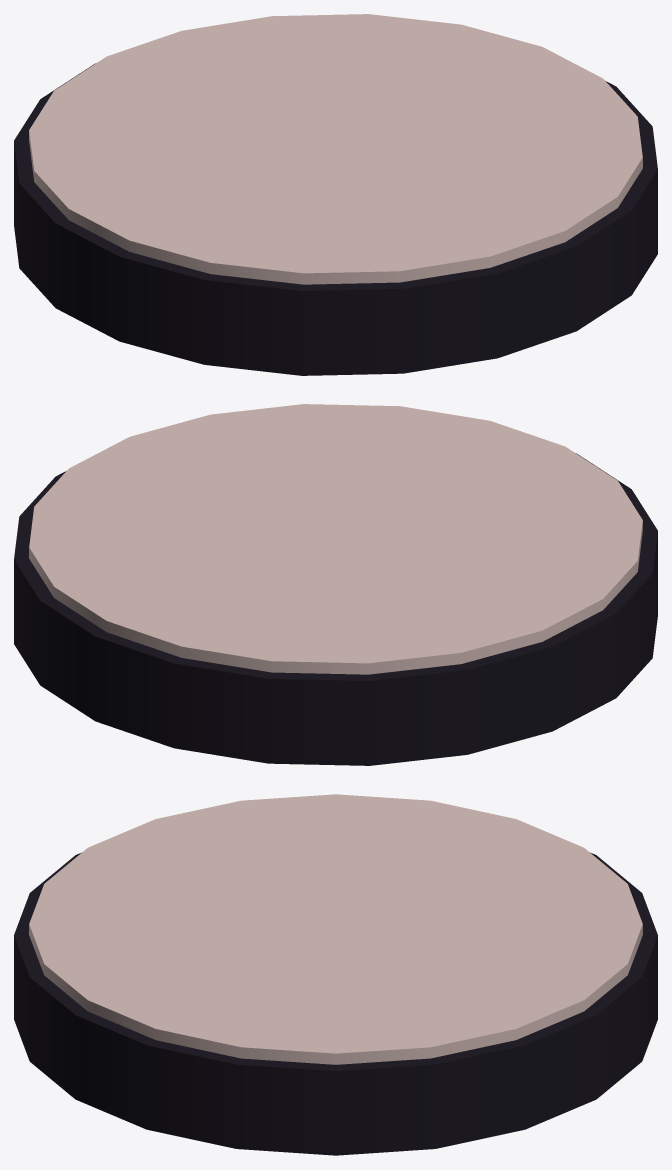
File: Light Fixture.fbx
The picture shows the model from 3 angles, top to bottom: view 1: azimuth 30°, elevation 25°; view 2: azimuth 150°, elevation 25°; view 3: azimuth 270°, elevation 25°; orthographic projection.
Visible parts, largest first — view 1: g_lightfixture; view 2: g_lightfixture; view 3: g_lightfixture.
Part boxes in pixels (x1=…): g_lightfixture: x1=14, y1=14, x2=657, y2=375; g_lightfixture: x1=14, y1=404, x2=657, y2=765; g_lightfixture: x1=14, y1=794, x2=657, y2=1155.
Bounding box in the file's own units: 20.69 × 3.47 × 20.69.
